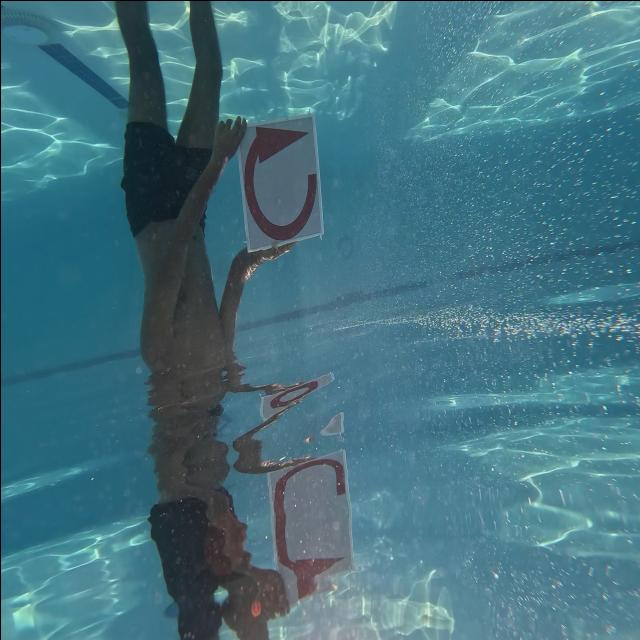red_side: (238, 118, 330, 252)
